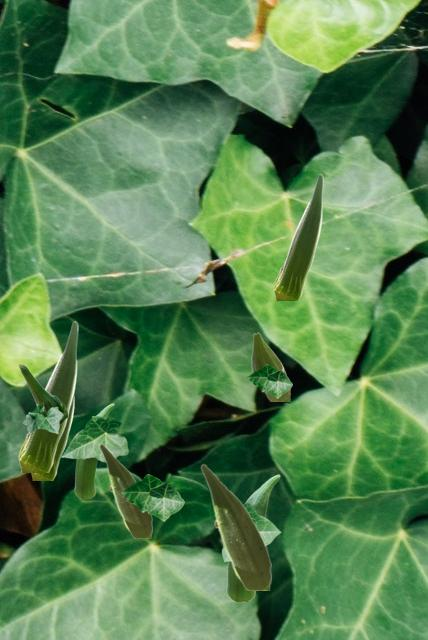okra: (18, 320, 77, 471), (200, 463, 270, 589), (226, 474, 279, 600), (273, 173, 322, 299), (99, 443, 151, 537), (74, 403, 113, 497), (30, 396, 74, 479), (18, 363, 67, 424), (251, 332, 289, 400)
